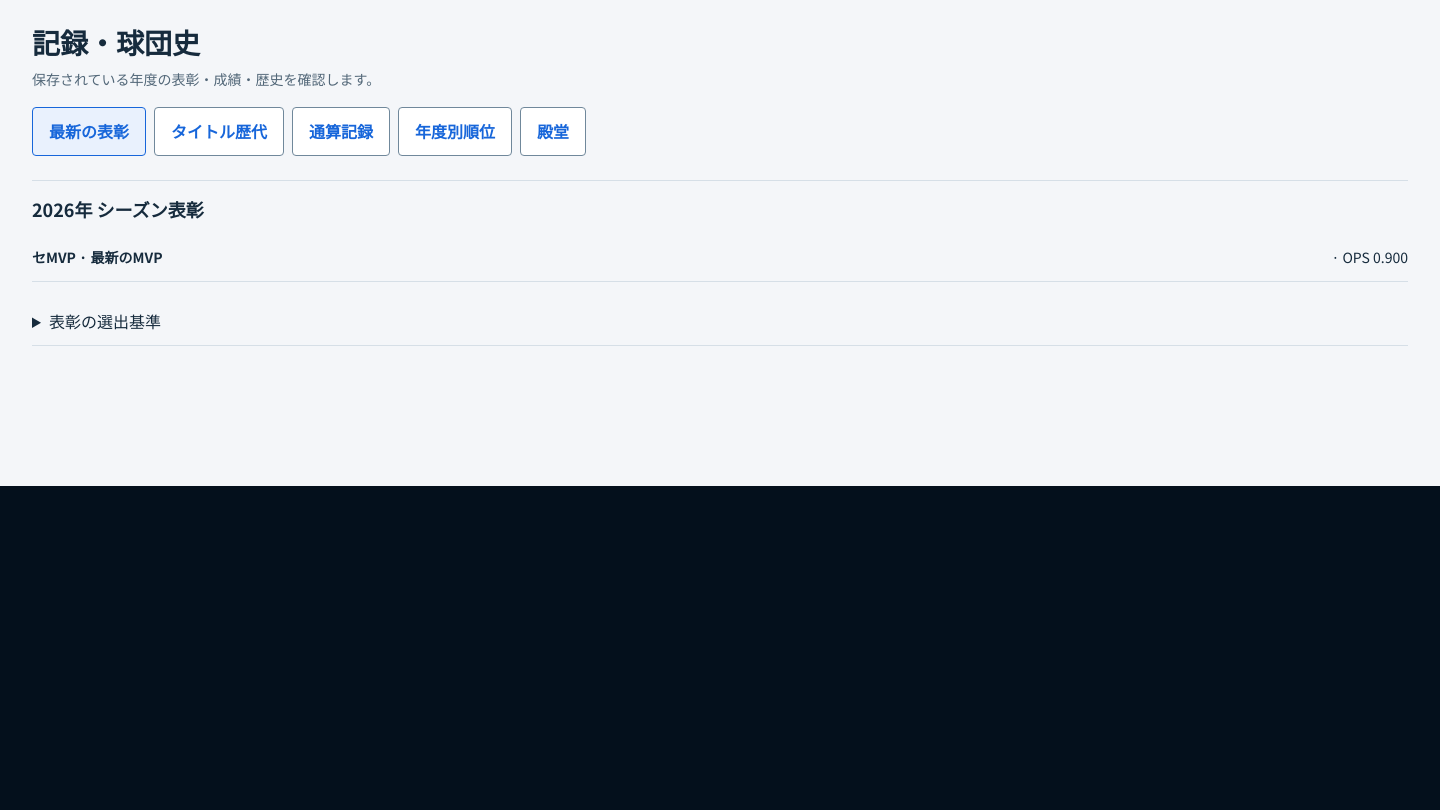
Test: keeps an older season MVP visible independently from the latest award winner
The image size is (1440, 810).
Click the button "年度別順位" at (455, 132), box [398, 108, 512, 156]
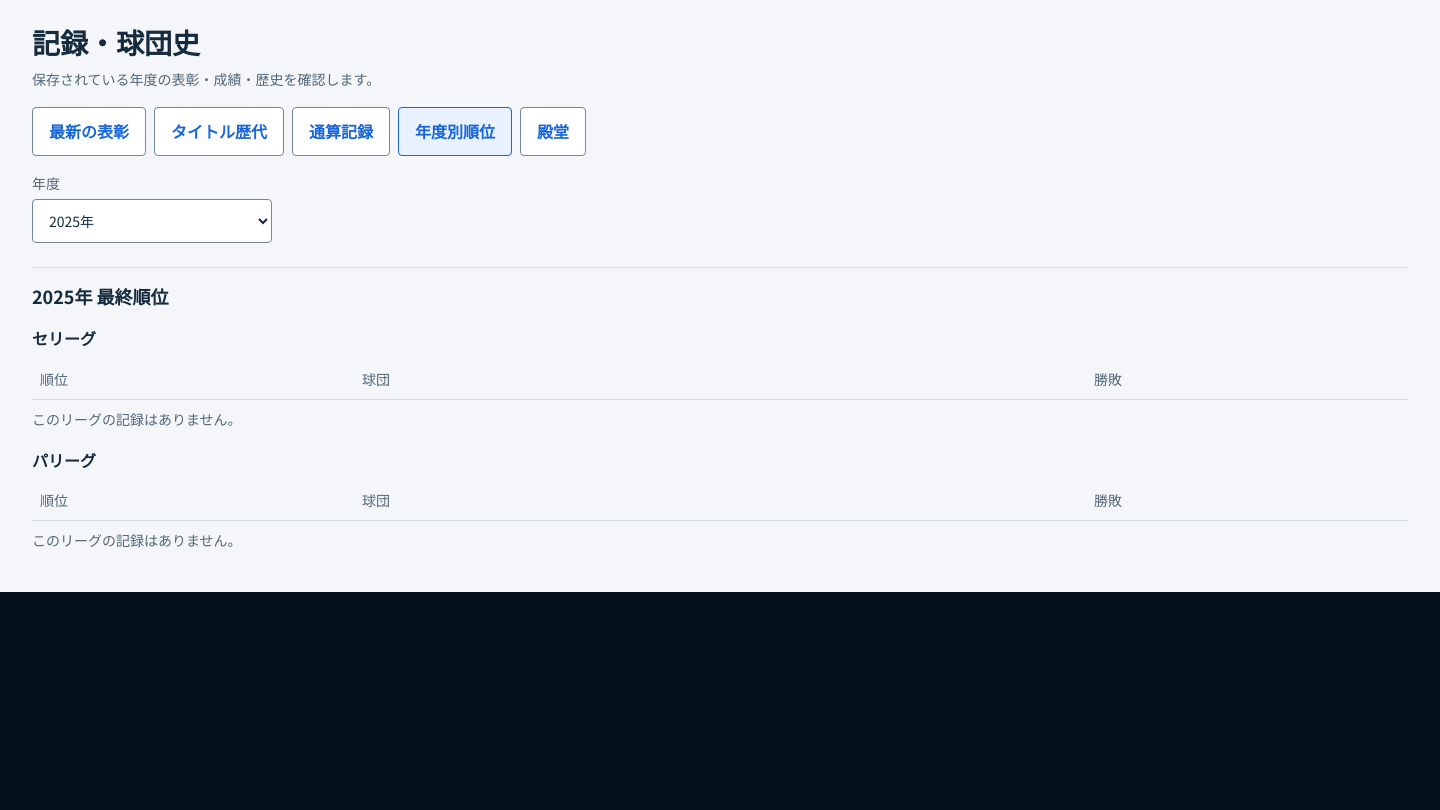
Select "2024年" in the dropdown labelled "年度" at (152, 221), box [32, 199, 272, 243]
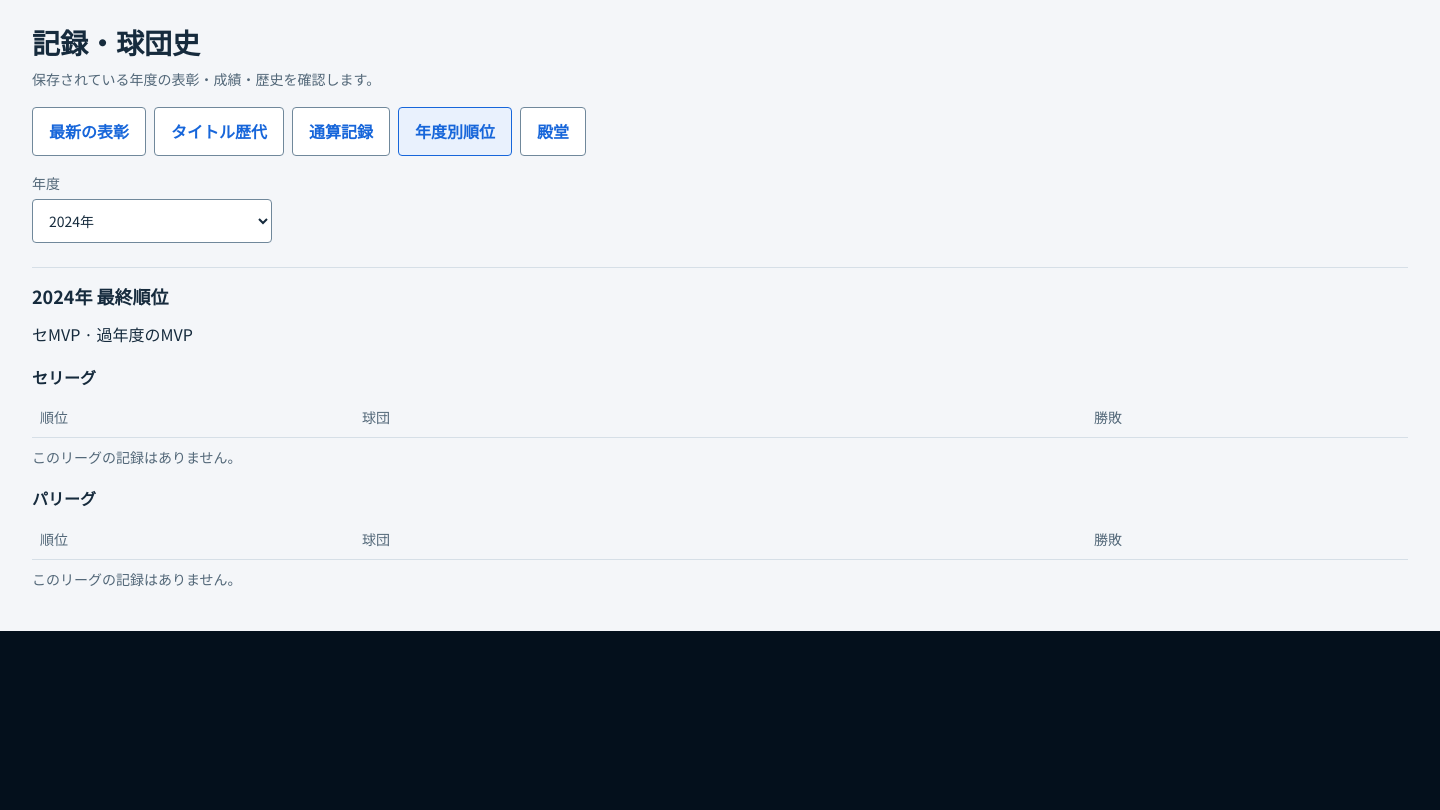
Check: the text "最新のMVP" is not shown
Check: the text "過年度のMVP" is shown, box [96, 322, 193, 346]
